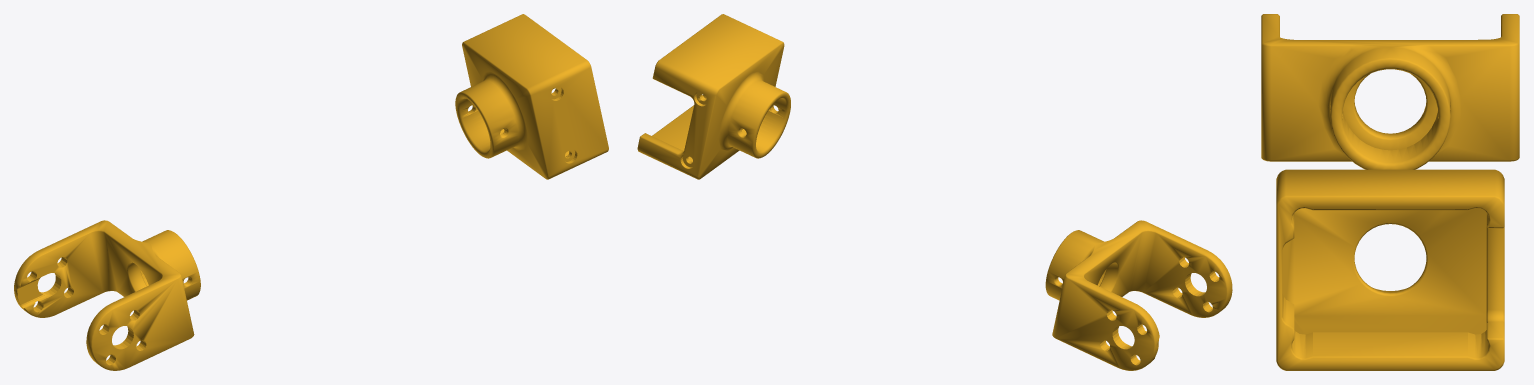
Rendered from left_arm_link3_arm.dae.
3 renders of one model, left to right at view 1: azimuth 30°, elevation 25°; view 2: azimuth 150°, elevation 25°; view 3: azimuth 270°, elevation 25°, orthographic. The views are drawn at different scales.
Visible parts, largest first — view 1: node; view 2: node; view 3: node.
Boxes of the visible parts, <box> form: node: <box>14,14,608,370</box>; node: <box>637,14,1232,370</box>; node: <box>1261,14,1519,370</box>.
Size of the model in its own units: 0.1666 by 0.043 by 0.0577.
